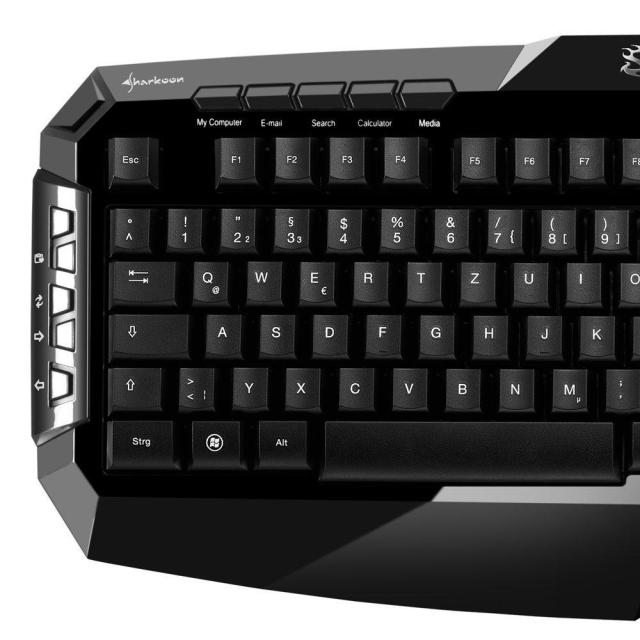1: (164, 205, 202, 249)
2: (216, 205, 256, 250)
3: (269, 204, 310, 251)
4: (323, 206, 362, 251)
5: (376, 204, 416, 250)
6: (430, 204, 469, 250)
7: (483, 204, 523, 252)
8: (536, 206, 575, 252)
9: (590, 206, 629, 252)
a: (202, 310, 241, 355)
alt-left: (254, 415, 308, 468)
b: (443, 364, 482, 409)
c: (335, 364, 374, 409)
caret: (109, 204, 149, 249)
comma: (602, 365, 636, 409)
d: (309, 310, 349, 355)
e: (296, 258, 335, 302)
f: (362, 310, 401, 355)
g: (416, 311, 454, 355)
h: (469, 311, 508, 357)
i: (563, 259, 601, 302)
j: (523, 311, 562, 357)
k: (577, 311, 615, 357)
keyboard: (86, 105, 639, 502)
less: (175, 363, 214, 408)
m: (548, 364, 587, 410)
n: (495, 364, 534, 408)
o: (619, 259, 640, 304)
q: (189, 258, 228, 303)
r: (349, 258, 388, 301)
s: (256, 311, 294, 355)
shift-left: (106, 364, 163, 410)
shift-lock: (107, 309, 189, 357)
space: (315, 417, 621, 481)
strg-left: (102, 416, 175, 471)
t: (405, 258, 441, 301)
tab: (108, 257, 176, 303)
u: (509, 258, 548, 303)
v: (389, 363, 428, 408)
w: (243, 256, 281, 301)
x: (282, 364, 320, 407)
y: (229, 363, 268, 407)
z: (457, 258, 495, 303)
